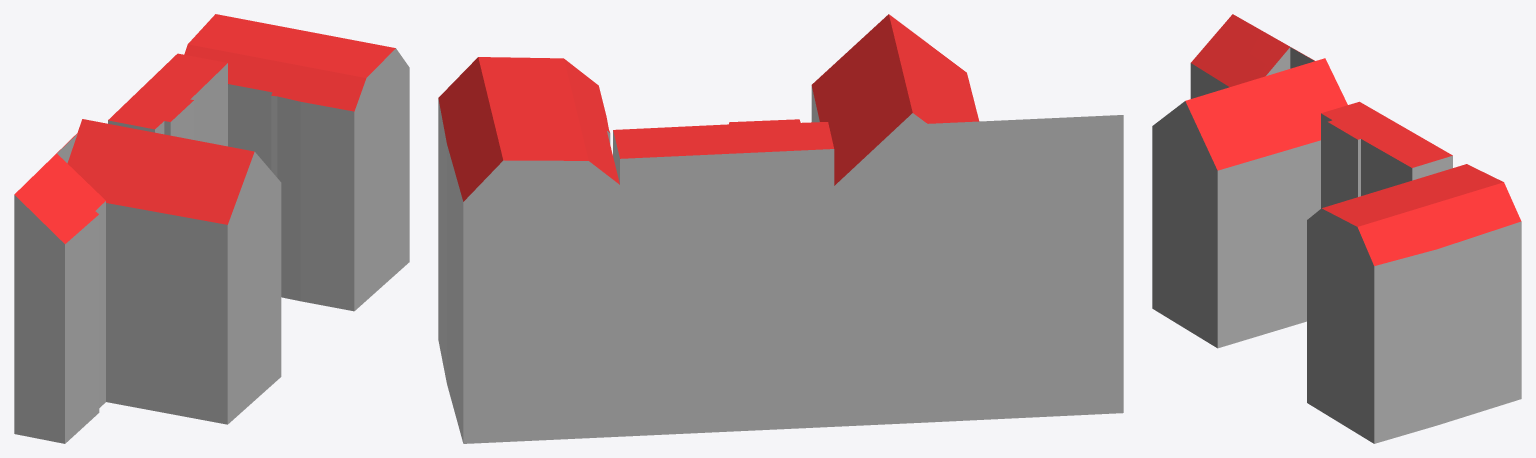
File: DEBE3D04YY500002cG.dae
The picture shows the model from 3 angles, left to right: view 1: azimuth 30°, elevation 25°; view 2: azimuth 150°, elevation 25°; view 3: azimuth 270°, elevation 25°; orthographic projection. The views are drawn at different scales.
Size of the model in its own units: 50.9 by 37.62 by 25.63.
